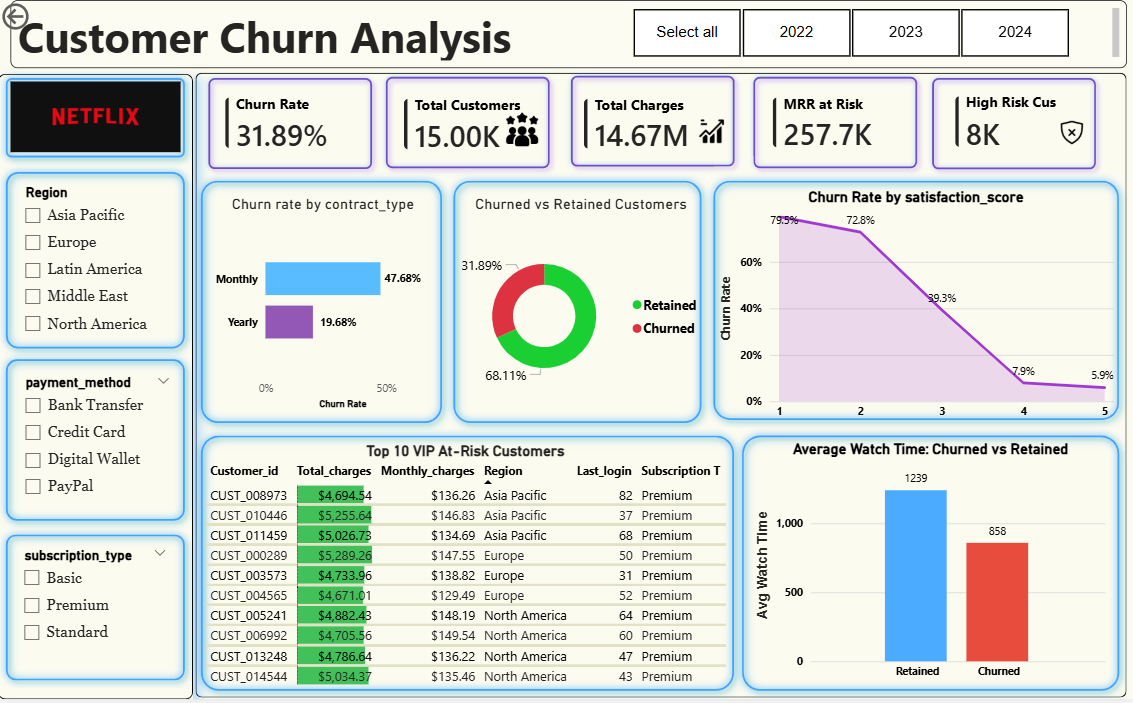

What the dashboard file says about the page in this screenshot:
{"tool":"powerbi","page":{"name":"Page 1","canvas":[1300,800],"ordinal":0},"visuals":[{"type":"shape","box":[435.1,81,205.2,122.4],"z":0,"group":"g1"},{"type":"shape","box":[226,84,1064,714],"z":0},{"type":"shape","box":[855.3,81,205.2,122.4],"z":1000,"group":"g1"},{"type":"shape","box":[0,85.6,222.8,714.7],"z":1000},{"type":"textbox","box":[14.7,1.3,1276.1,77.7],"z":2000},{"type":"shape","box":[231.9,81.9,205.1,122],"z":2000,"group":"g1"},{"type":"shape","box":[1059.3,82.1,205.2,122.3],"z":3000,"group":"g1"},{"type":"shape","box":[222.5,198.4,293.6,294.9],"z":3000},{"type":"cardVisual","title":"Total Customers","fields":{"Data":["chrun_data_analysis customers.Total Customers"]},"box":[447.5,98,181,92.5],"z":4000,"group":"g1"},{"type":"shape","box":[222.5,490.6,627.3,309.7],"z":4000},{"type":"shape","box":[646.2,79.1,205.1,122],"z":5000,"group":"g1"},{"type":"shape","box":[0,189,222.5,219.8],"z":5000},{"type":"actionButton","box":[0,0,100,40],"z":6000},{"type":"image","box":[572.1,128.1,55,44],"z":6000,"group":"g1"},{"type":"group","id":"g1","title":"Group 1","box":[231.9,79.1,1032.2,124.7],"z":7000},{"type":"cardVisual","fields":{"Data":["chrun_data_analysis customers.Total_revnue"]},"box":[653.8,97.7,170.2,91.2],"z":7000,"group":"g1"},{"type":"cardVisual","fields":{"Data":["chrun_data_analysis customers.MRR at Risk"]},"box":[868.4,96.7,178.3,91],"z":8000,"group":"g1"},{"type":"image","box":[1205.2,129.1,43.5,47.6],"z":8000},{"type":"image","box":[797.1,133.9,37.9,34.2],"z":9000,"group":"g1"},{"type":"shape","box":[511,198.4,301.6,294.9],"z":9000},{"type":"slicer","title":"Year","fields":{"Values":["chrun_data_analysis customers.signup_date.Variation.Date Hierarchy.Year"]},"box":[699.7,4,548.3,68.4],"z":10000},{"type":"cardVisual","fields":{"Data":["chrun_data_analysis customers.High Risk Customers"]},"box":[1076.9,94.3,169.8,92.4],"z":10000,"group":"g1"},{"type":"cardVisual","fields":{"Data":["chrun_data_analysis customers.Churn Rate"]},"box":[243.1,96.8,168.9,92.5],"z":11000,"group":"g1"},{"type":"shape","box":[0,403.5,222.5,202.4],"z":11000},{"type":"shape","box":[0,603.2,222.5,185],"z":12000},{"type":"shape","box":[0,81.8,222.5,108.6],"z":13000},{"type":"shape","box":[808.6,198.6,481.4,291.4],"z":14000},{"type":"image","box":[14.7,93.8,194.4,80.4],"z":15000},{"type":"tableEx","title":"Top 10 VIP At-Risk Customers","fields":{"Values":["chrun_data_analysis customers.customer_id","chrun_data_analysis customers.total_charges","chrun_data_analysis customers.monthly_charges","chrun_data_analysis customers.region","chrun_data_analysis customers.last_login_days_ago","chrun_data_analysis customers.subscription_type"]},"box":[231.9,505.4,605.9,294.9],"z":16000},{"type":"shape","box":[841.8,490.6,449.1,309.7],"z":17000},{"type":"lineChart","fields":{"Y":["chrun_data_analysis customers.Churn Rate"],"Category":["chrun_data_analysis customers.satisfaction_score"]},"box":[818.6,215.7,461.4,274.3],"z":18000},{"type":"donutChart","title":"Churned vs Retained Customers","fields":{"Category":["chrun_data_analysis customers.churn_status"],"Y":["CountNonNull(chrun_data_analysis customers.churn_status)"]},"box":[520,224.3,292.9,257.1],"z":19000},{"type":"clusteredBarChart","title":"Churn rate by contract_type","fields":{"Y":["chrun_data_analysis customers.Churn Rates"],"Category":["chrun_data_analysis customers.contract_type"]},"box":[242.6,223.9,257.4,249.3],"z":20000},{"type":"slicer","fields":{"Values":["chrun_data_analysis customers.region"]},"box":[18.8,207.8,186.3,183.6],"z":21000},{"type":"slicer","fields":{"Values":["chrun_data_analysis customers.payment_method"]},"box":[18.8,423.6,190.3,163.5],"z":22000},{"type":"slicer","fields":{"Values":["chrun_data_analysis customers.subscription_type"]},"box":[17.4,622,187.7,147.5],"z":23000},{"type":"clusteredColumnChart","title":"Average Watch Time: Churned vs Retained","fields":{"Category":["chrun_data_analysis customers.churn_status"],"Y":["chrun_data_analysis customers.Avg Watch Time"]},"box":[861.9,504,408.8,282.8],"z":24000}]}

Visuals, with their boxes in screenshot pixels (x1, y1, x2, y2), scaled from the page's 1300x800 canvas onto the 1133x703 screenshot:
shape: [379,71,558,179]
shape: [197,74,1124,701]
shape: [745,71,924,179]
shape: [0,75,194,702]
textbox: [13,1,1125,69]
shape: [202,72,381,179]
shape: [923,72,1102,180]
shape: [194,174,450,433]
"Total Customers" cardVisual: [390,86,548,167]
shape: [194,431,741,702]
shape: [563,70,742,177]
shape: [0,166,194,359]
actionButton: [0,0,87,35]
image: [499,113,547,151]
"Group 1" group: [202,70,1102,179]
cardVisual - chrun_data_analysis customers.Total_revnue: [570,86,718,166]
cardVisual - chrun_data_analysis customers.MRR at Risk: [757,85,912,165]
image: [1050,113,1088,155]
image: [695,118,728,148]
shape: [445,174,708,433]
"Year" slicer: [610,4,1088,64]
cardVisual - chrun_data_analysis customers.High Risk Customers: [939,83,1087,164]
cardVisual - chrun_data_analysis customers.Churn Rate: [212,85,359,166]
shape: [0,355,194,532]
shape: [0,530,194,693]
shape: [0,72,194,167]
shape: [705,175,1124,431]
image: [13,82,182,153]
"Top 10 VIP At-Risk Customers" tableEx: [202,444,730,702]
shape: [734,431,1125,702]
lineChart - chrun_data_analysis customers.Churn Rate x chrun_data_analysis customers.satisfaction_score: [713,190,1116,431]
"Churned vs Retained Customers" donutChart: [453,197,708,423]
"Churn rate by contract_type" clusteredBarChart: [211,197,436,416]
slicer - chrun_data_analysis customers.region: [16,183,179,344]
slicer - chrun_data_analysis customers.payment_method: [16,372,182,516]
slicer - chrun_data_analysis customers.subscription_type: [15,547,179,676]
"Average Watch Time: Churned vs Retained" clusteredColumnChart: [751,443,1107,691]
